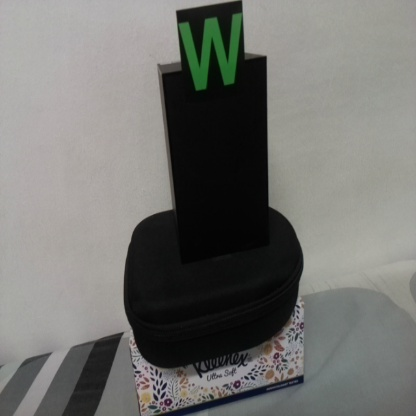id_12: (176, 10, 247, 97)
